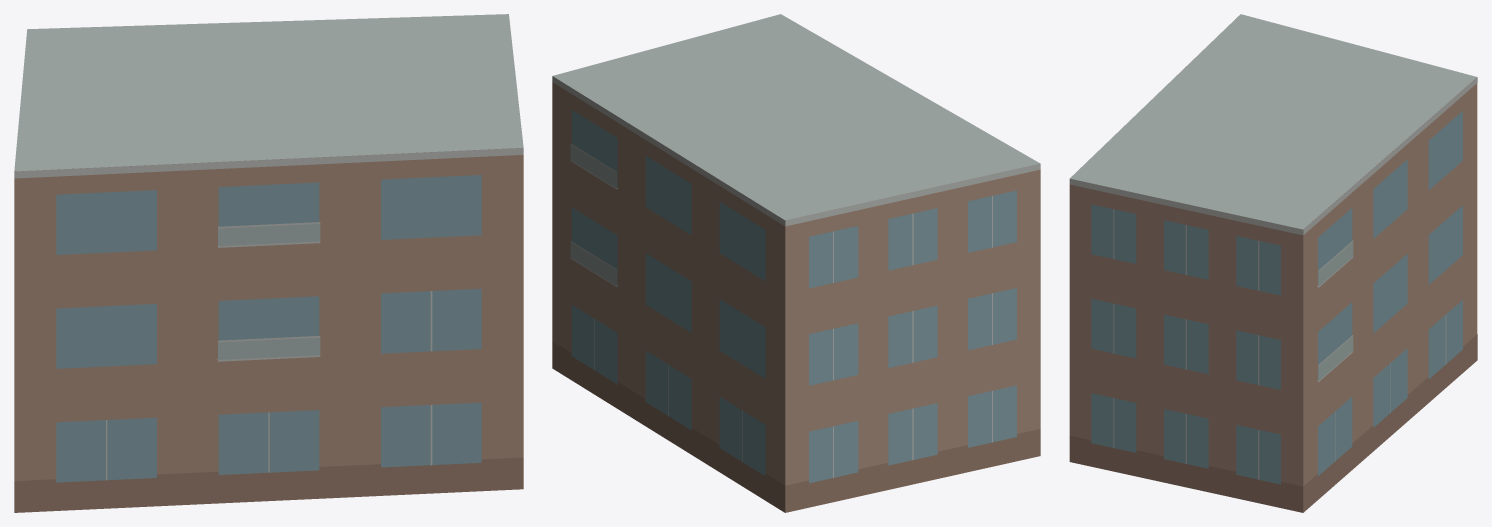
File: survey-upis-32957720.glb
The picture shows the model from 3 angles, left to right: view 1: azimuth 30°, elevation 25°; view 2: azimuth 150°, elevation 25°; view 3: azimuth 270°, elevation 25°; orthographic projection. The views are drawn at different scales.
Visible parts, largest first — view 1: survey-upis-32957720.tmp; view 2: survey-upis-32957720.tmp; view 3: survey-upis-32957720.tmp.
Part boxes in pixels (x1,y1,x2,y2): survey-upis-32957720.tmp: (14, 14, 523, 512); survey-upis-32957720.tmp: (552, 14, 1040, 512); survey-upis-32957720.tmp: (1069, 14, 1477, 512).
Bounding box in the file's own units: 19.26 × 11.8 × 15.4.
